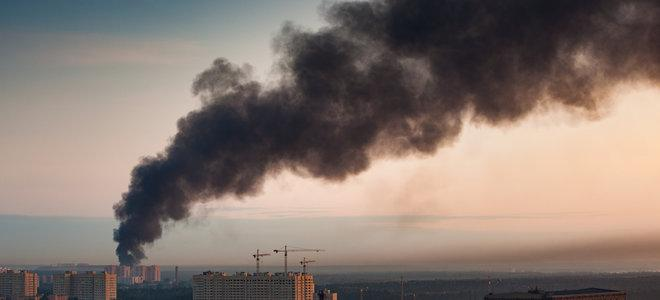smoke: (388, 5, 608, 112), (299, 52, 370, 159), (182, 118, 259, 185), (131, 167, 175, 228)
